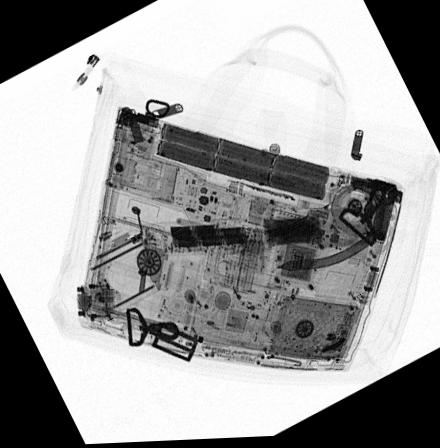Baton: (143, 210, 371, 262)
